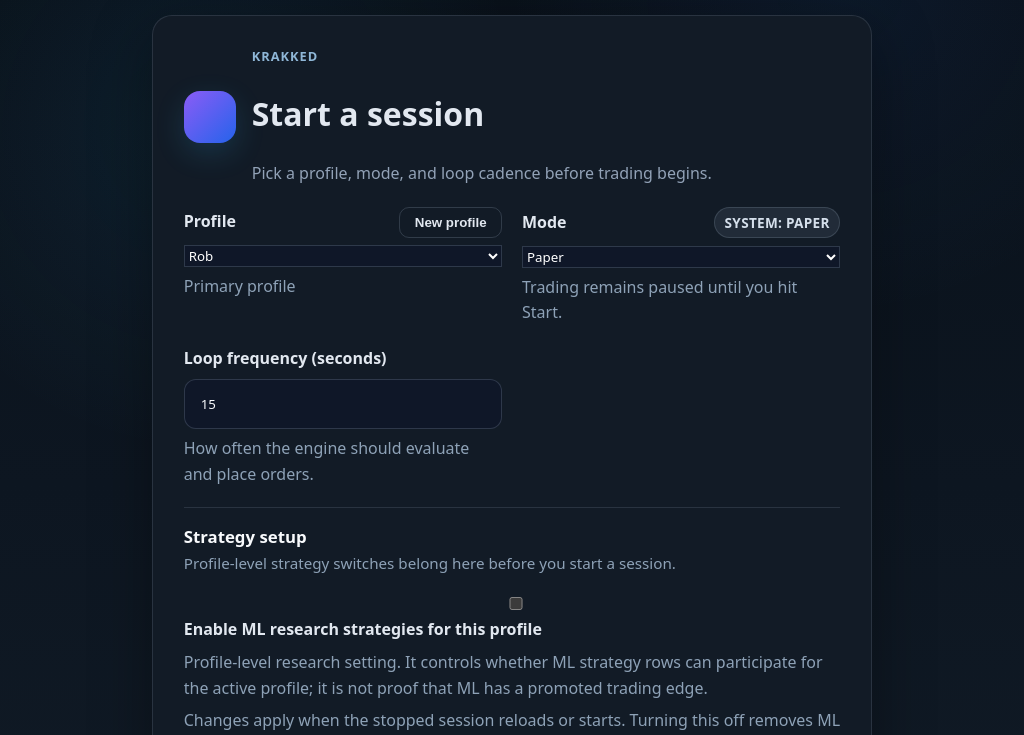
Scenario: cockpit operator paths › shows live readiness blockers on the startup screen
The width and height of the screenshot is (1024, 735).
Check: the heading "Start a session" is shown, box [252,92,484,135]
Select "Live" in the dropdown labelled "Mode": (681, 256) [522,246,840,268]
(page scrolled)
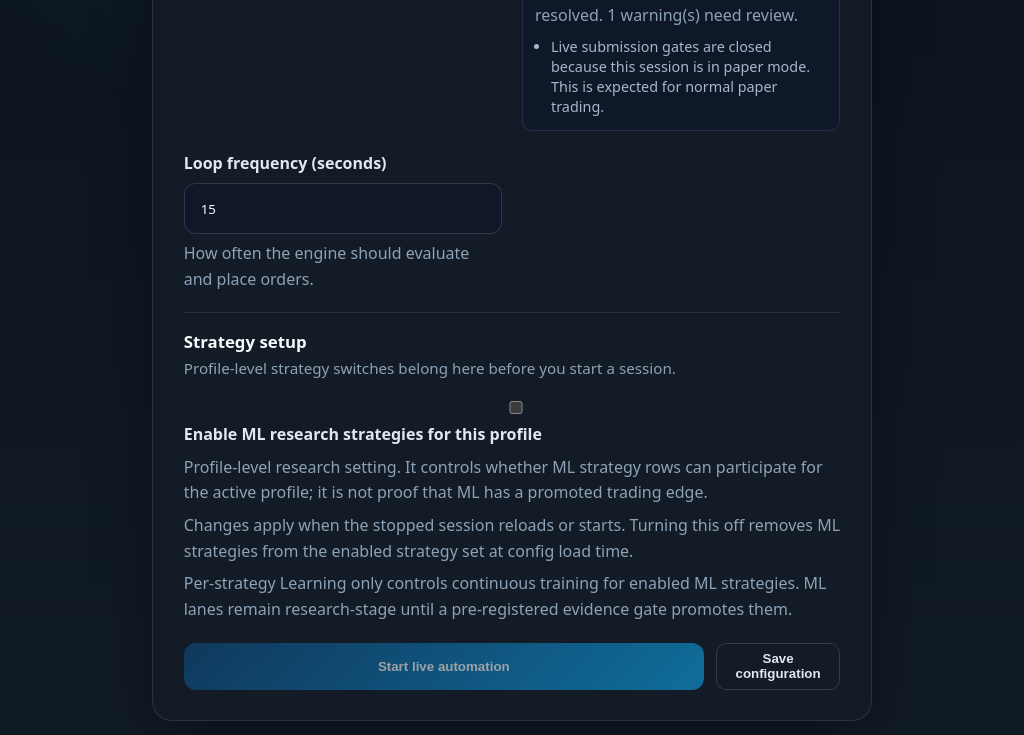
Check: the list item "Live submission gates are closed" is shown, box [551,37,810,116]
Check: the button "Start live automation" is disabled, box [184,643,704,690]
